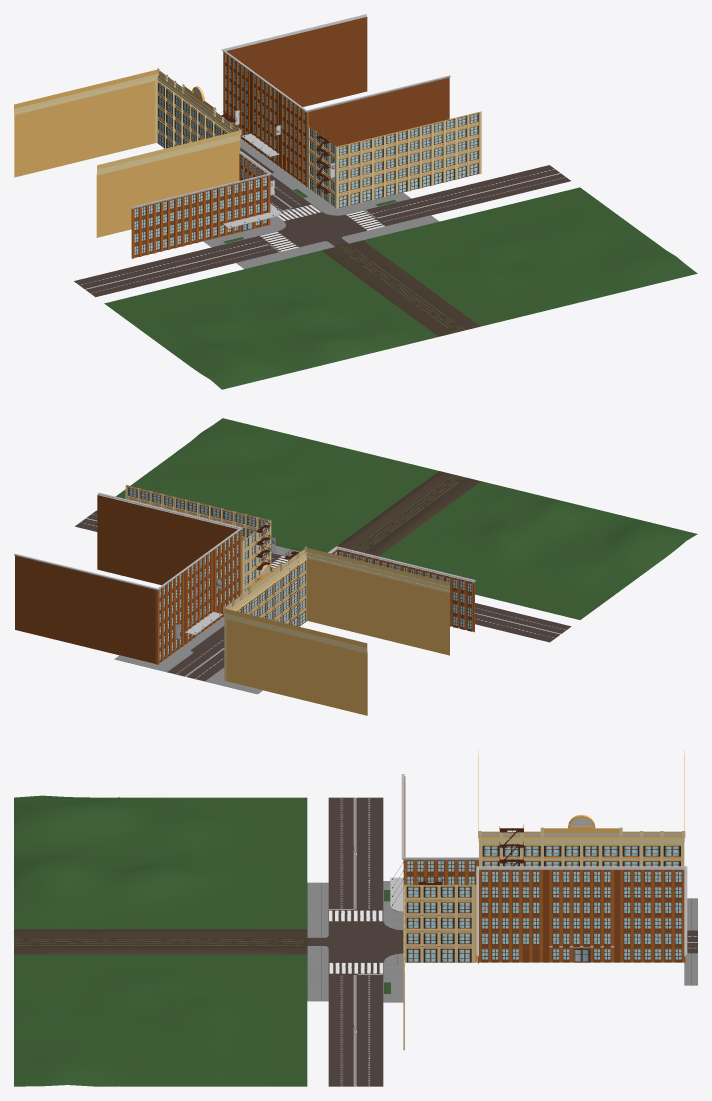
File: TileCityForest.fbx
The picture shows the model from 3 angles, top to bottom: view 1: azimuth 30°, elevation 25°; view 2: azimuth 150°, elevation 25°; view 3: azimuth 270°, elevation 25°; orthographic projection. The views are drawn at different scales.
Visible parts, largest first — view 1: Plane.047, Road1.008, Sidewalk1.014, Sidewalk1.007, Sidewalk1.006, Sidewalk1.013, Sidewalk1.010, Sidewalk1.012, Sidewalk1.005, Plane.046, Sidewalk1.008, Sidewalk1.003 (+16 smaller); view 2: Plane.047, Sidewalk1.007, Sidewalk1.014, Sidewalk1.006, Sidewalk1.013, Sidewalk1.010, Sidewalk1.005, Sidewalk1.012, Sidewalk1.003, Sidewalk1.008, Sidewalk1.002, Sidewalk1.009 (+11 smaller); view 3: Plane.047, Road1.008, Plane.046, Sidewalk1.010, Sidewalk1.003, Sidewalk1.006, Sidewalk1.001, Sidewalk1.002, Sidewalk1.005, Sidewalk1.007, Sidewalk1.014, Road1.005 (+15 smaller).
Boxes of the visible parts, x1,y1,x2,y2 form: Plane.047: (104, 187, 697, 389); Road1.008: (74, 165, 570, 297); Sidewalk1.014: (14, 80, 240, 187); Sidewalk1.007: (223, 17, 449, 124); Sidewalk1.006: (223, 29, 449, 137); Sidewalk1.013: (14, 93, 238, 200); Sidewalk1.010: (14, 68, 241, 175); Sidewalk1.012: (14, 105, 238, 212); Sidewalk1.005: (223, 42, 449, 149); Plane.046: (321, 240, 480, 336); Sidewalk1.008: (14, 117, 238, 225); Sidewalk1.003: (223, 54, 449, 162); Plane.047: (116, 418, 697, 619); Sidewalk1.007: (15, 495, 241, 602); Sidewalk1.014: (224, 558, 449, 665); Sidewalk1.006: (15, 507, 241, 615); Sidewalk1.013: (224, 571, 449, 678); Sidewalk1.010: (223, 546, 449, 653); Sidewalk1.005: (15, 520, 241, 627); Sidewalk1.012: (224, 583, 449, 690); Sidewalk1.003: (15, 532, 241, 640); Sidewalk1.008: (224, 596, 449, 703); Sidewalk1.002: (15, 545, 241, 652); Sidewalk1.009: (224, 608, 449, 715); Plane.047: (14, 795, 307, 1086); Road1.008: (328, 797, 383, 1086); Plane.046: (14, 929, 310, 954); Sidewalk1.010: (478, 750, 685, 844); Sidewalk1.003: (479, 915, 684, 931); Sidewalk1.006: (479, 884, 684, 900); Sidewalk1.001: (478, 946, 685, 963); Sidewalk1.002: (479, 931, 684, 946); Sidewalk1.005: (479, 900, 684, 915); Sidewalk1.007: (479, 869, 684, 884); Sidewalk1.014: (479, 844, 684, 860); Road1.005: (310, 921, 403, 962).
Bounding box in the file's own units: 20000 × 3435 × 20000.
